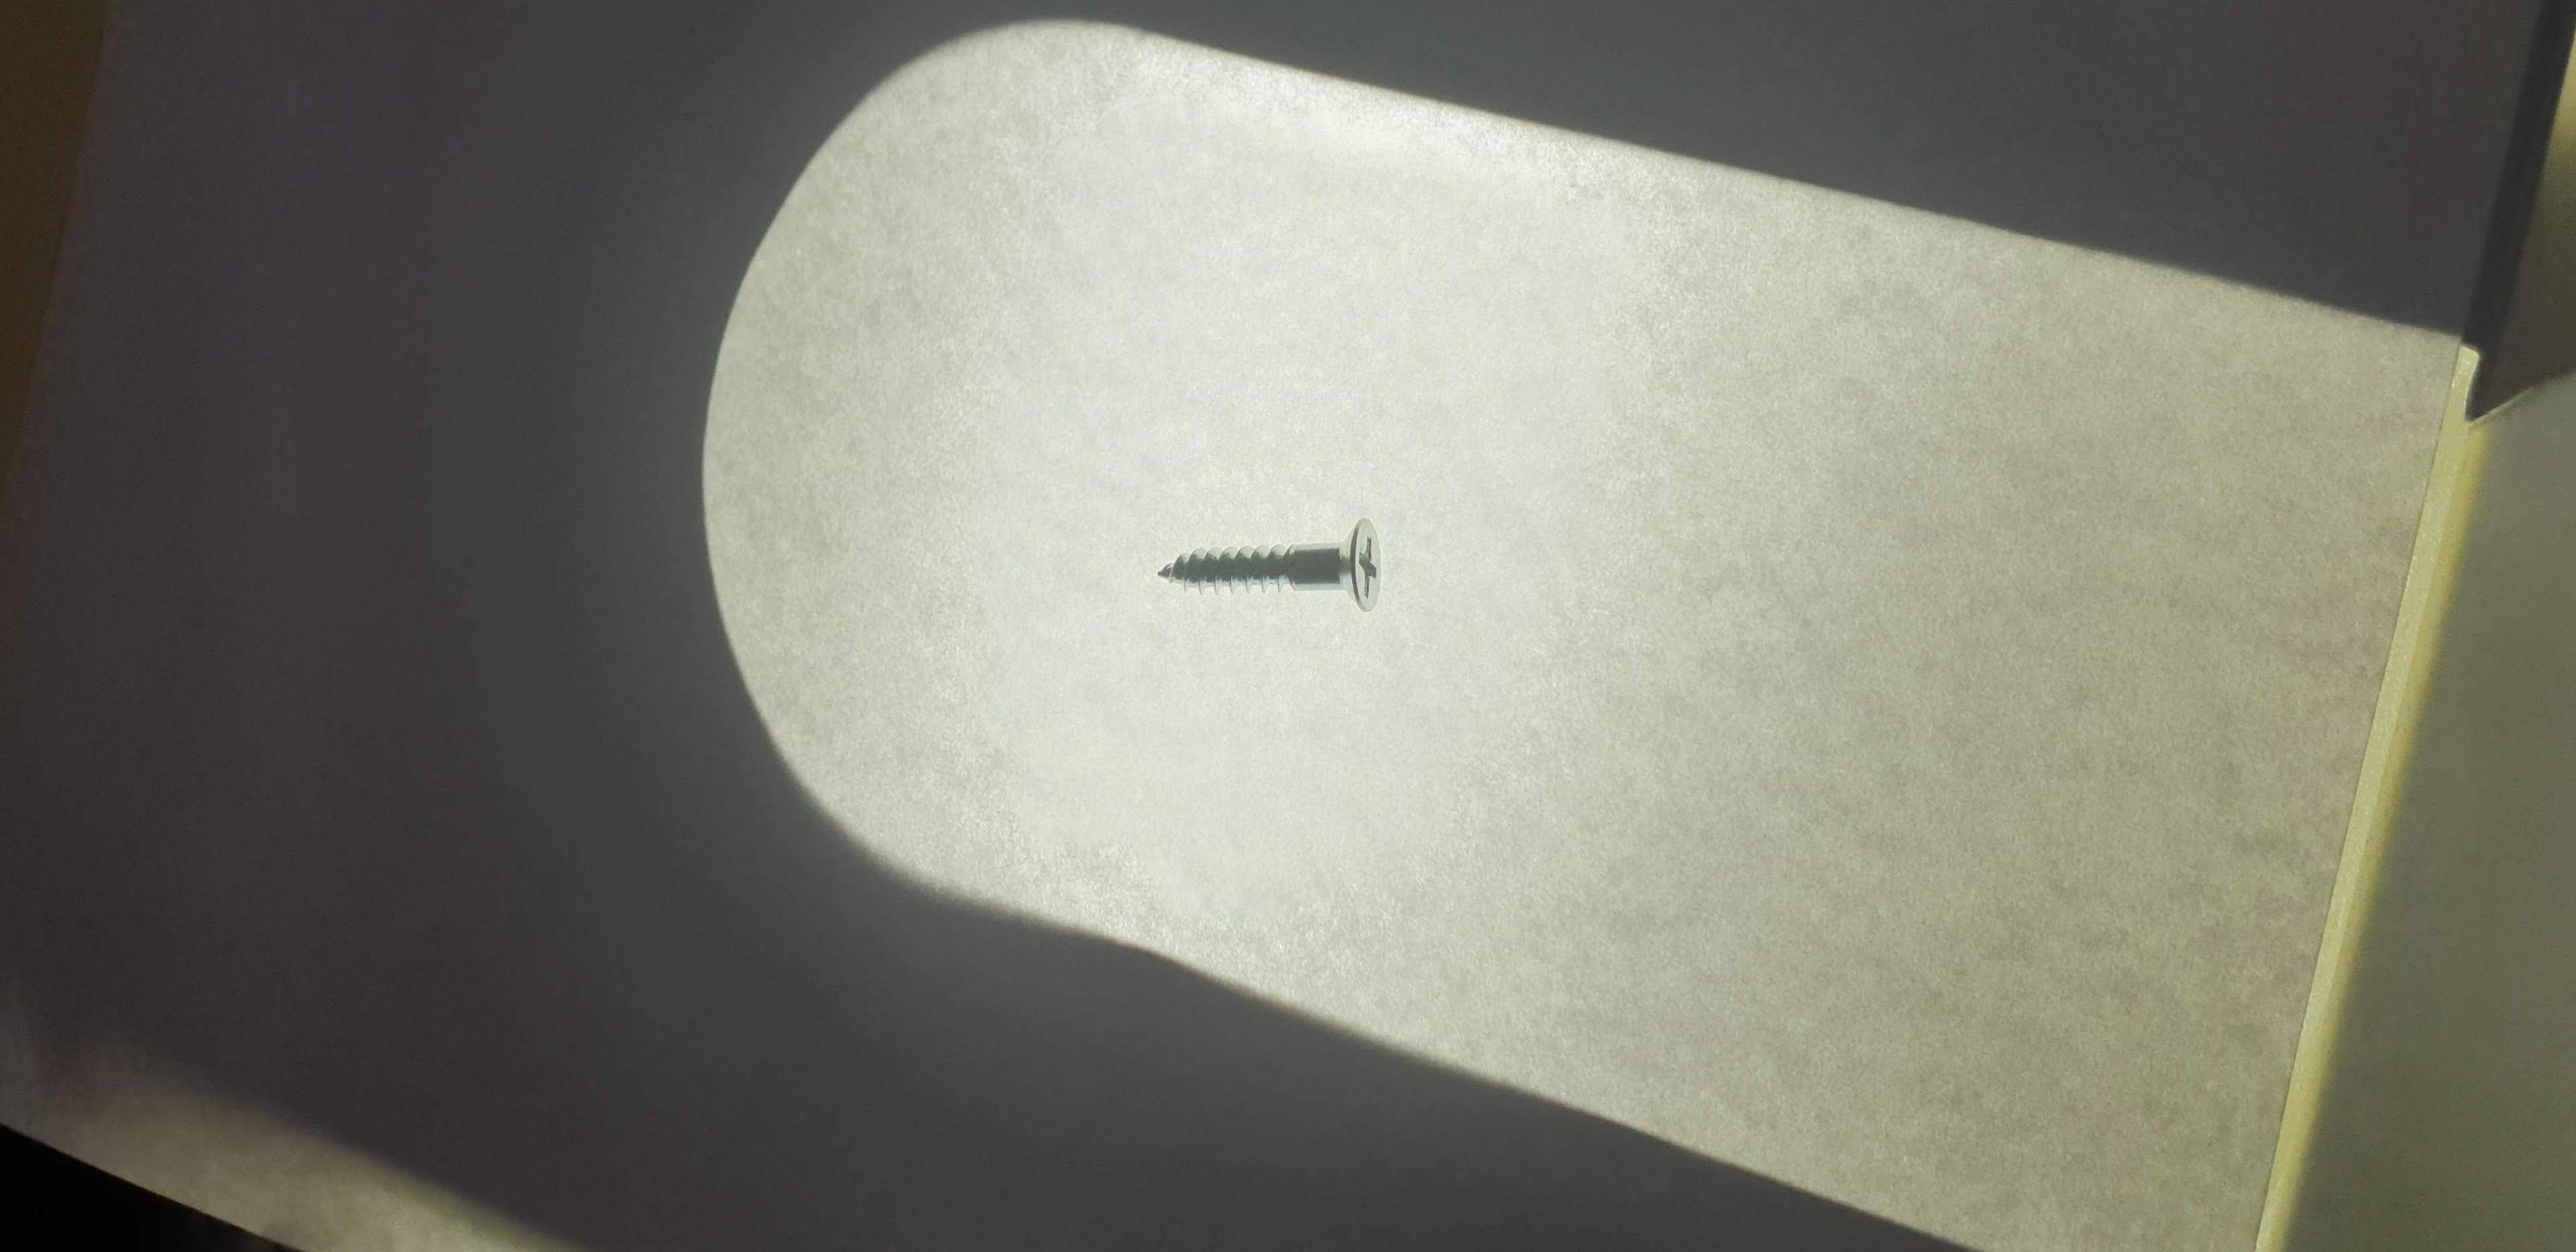S005: (1104, 483, 1449, 642)
